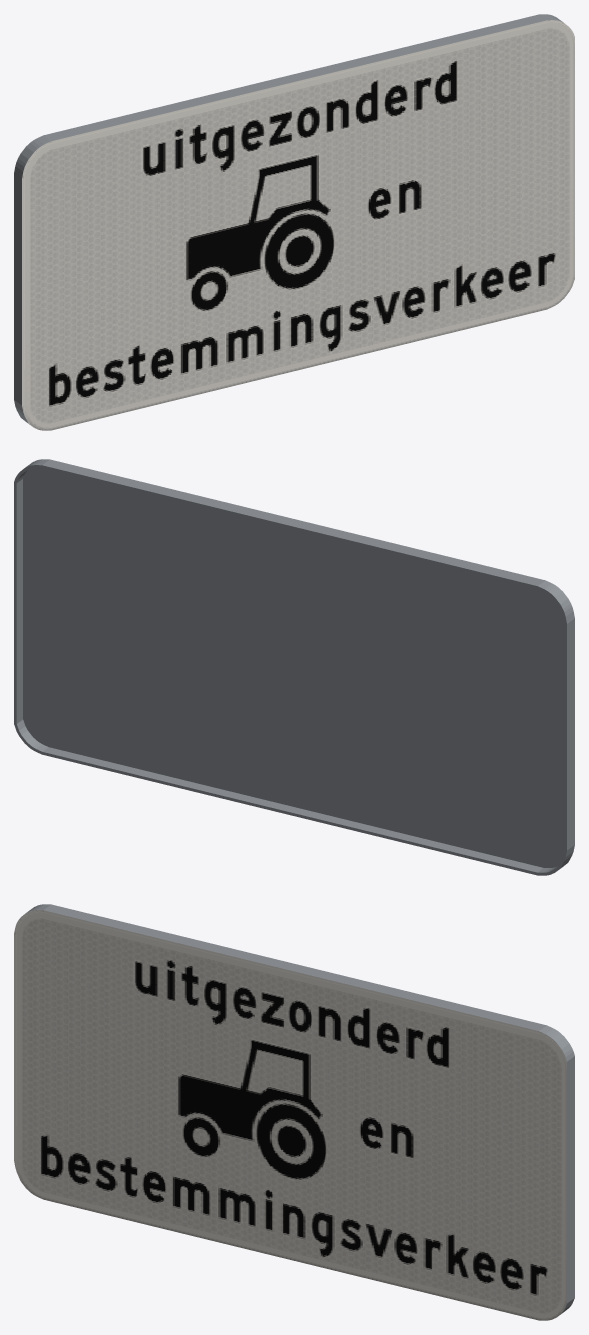
3 renders of one model, top to bottom at view 1: azimuth 30°, elevation 25°; view 2: azimuth 150°, elevation 25°; view 3: azimuth 330°, elevation 25°, orthographic.
Parts seen in each view (by area): view 1: cat_c0c7aee94fb786e0; view 2: cat_c0c7aee94fb786e0; view 3: cat_c0c7aee94fb786e0.
Part boxes in pixels (x1,y1,x2,y2): cat_c0c7aee94fb786e0: (14, 14, 574, 430); cat_c0c7aee94fb786e0: (14, 459, 574, 875); cat_c0c7aee94fb786e0: (14, 904, 574, 1320).
Bounding box in the file's own units: 0.6 × 0.015 × 0.3.
Materials: 2 (1 with a texture image).
